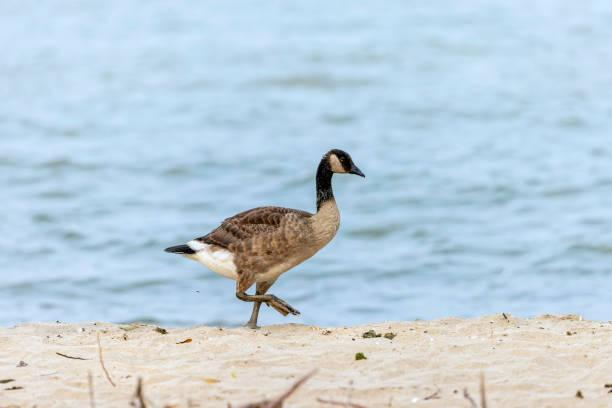Canadian-Goose: (165, 148, 373, 328)
